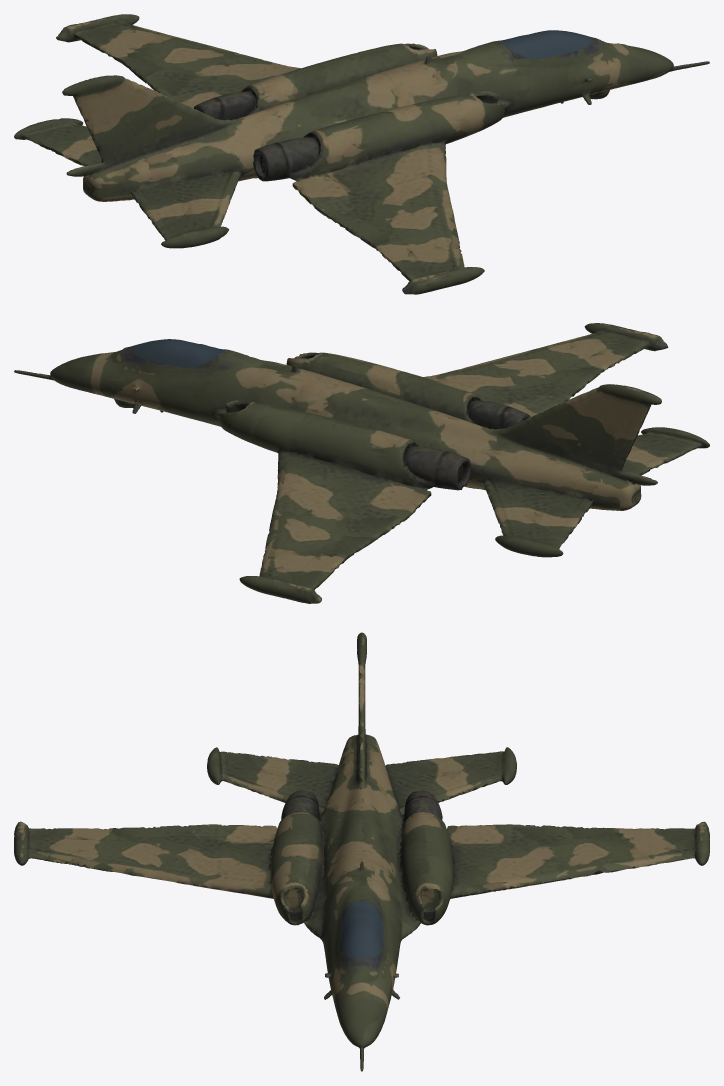
Rendered from attacker.glb.
The picture shows the model from 3 angles, top to bottom: view 1: azimuth 30°, elevation 25°; view 2: azimuth 150°, elevation 25°; view 3: azimuth 270°, elevation 25°; orthographic projection.
Parts seen in each view (by area): view 1: fh_hangar_attacker_1; view 2: fh_hangar_attacker_1; view 3: fh_hangar_attacker_1.
Boxes of the visible parts, left/top/right/bottom form: fh_hangar_attacker_1: left=14, top=14, right=709, bottom=294; fh_hangar_attacker_1: left=14, top=323, right=709, bottom=603; fh_hangar_attacker_1: left=14, top=632, right=709, bottom=1071.
Size of the model in its own units: 0.9988 by 0.2109 by 0.944.
2 materials, 1 textured.
